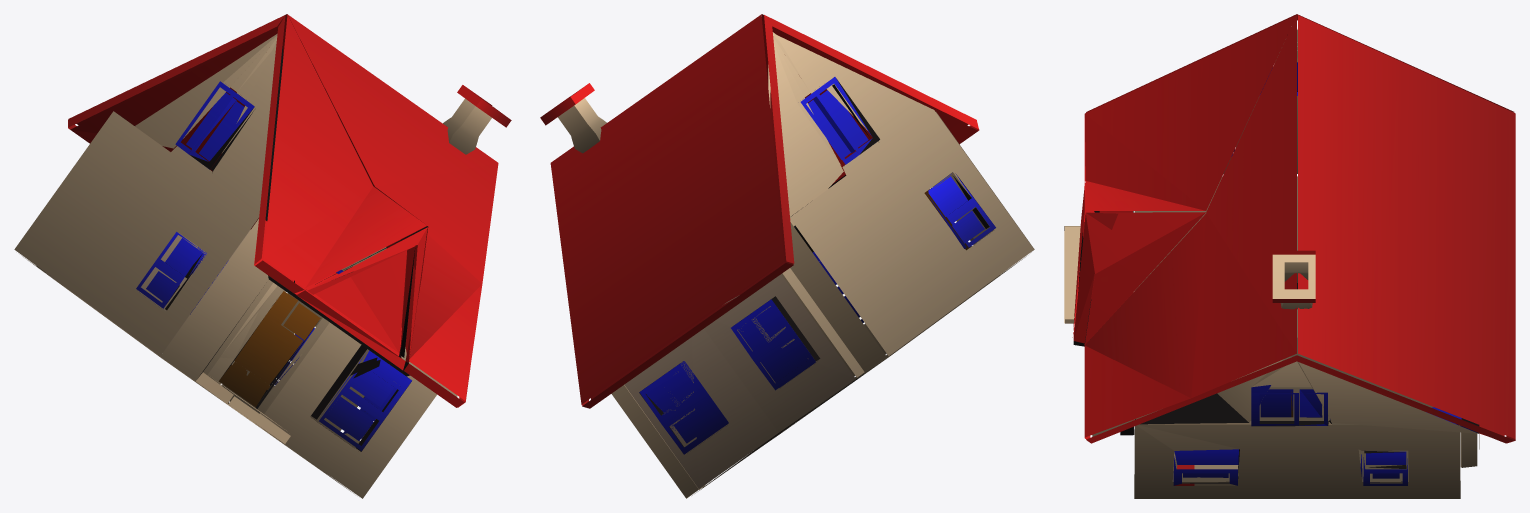
Rendered from house.glb.
The picture shows the model from 3 angles, left to right: view 1: azimuth 30°, elevation 25°; view 2: azimuth 150°, elevation 25°; view 3: azimuth 270°, elevation 25°; orthographic projection. The views are drawn at different scales.
Parts seen in each view (by area): view 1: Mesh_0, Mesh_0.001; view 2: Mesh_0, Mesh_0.001; view 3: Mesh_0, Mesh_0.001.
Part boxes in pixels (x1,y1,x2,y2): Mesh_0: [14, 14, 498, 498]; Mesh_0.001: [443, 85, 511, 154]; Mesh_0: [550, 14, 1034, 498]; Mesh_0.001: [540, 83, 606, 153]; Mesh_0: [1064, 14, 1515, 498]; Mesh_0.001: [1272, 250, 1315, 309].
Size of the model in its own units: 10.1 by 10.08 by 8.56.
Materials: 2 (1 with a texture image).
